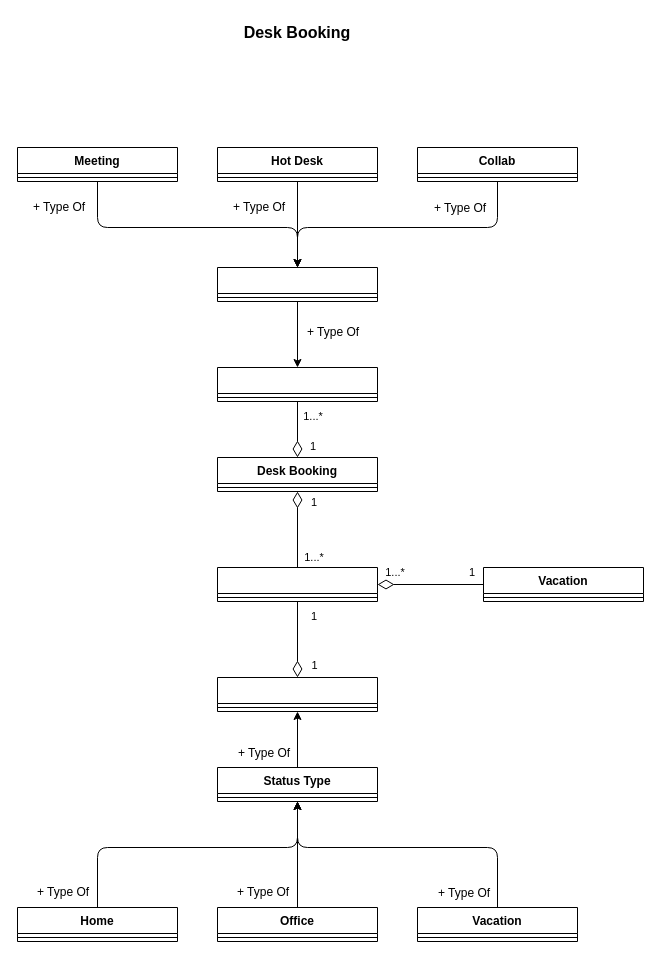
Some shapes in this 661 by 959 pixel diagram are drawn without their labels. The box of each missing label's shape, as (x1, y1, x2, y2) in pixels:
Employee: (216, 566, 378, 602)
Neighbour Hood: (216, 366, 378, 402)
Neighbour Hood Type: (216, 266, 378, 302)
Status: (216, 676, 378, 712)
